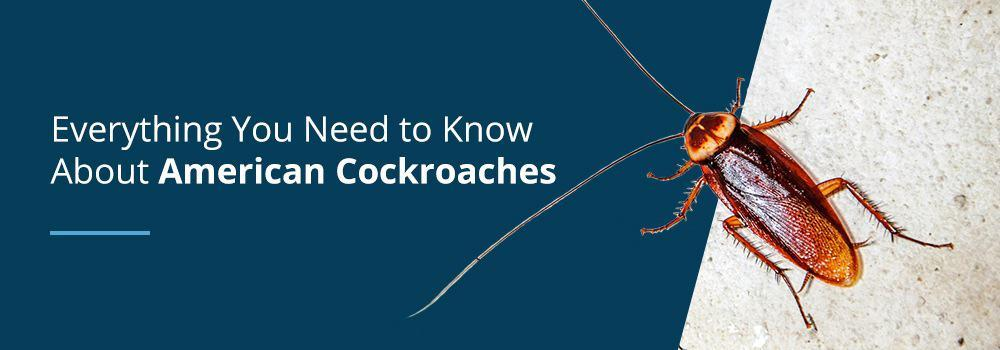cockroach: (637, 80, 903, 332)
